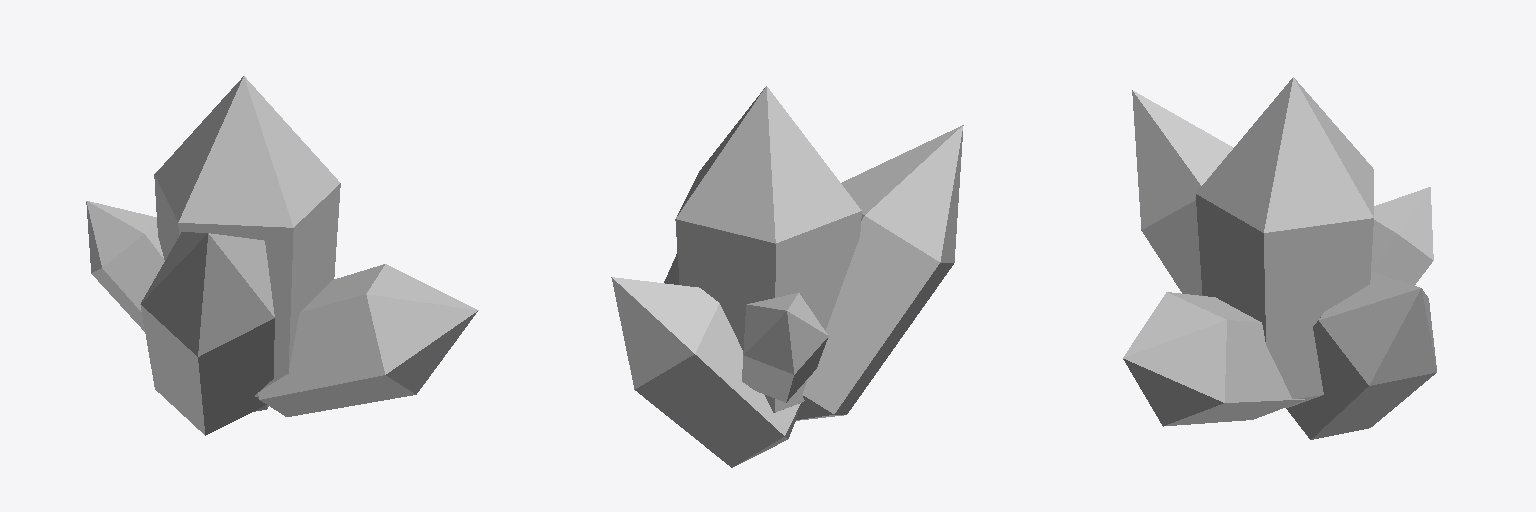
Rendered from crystal 3s.obj.
3 views of the same model, side by side, from view 1: azimuth 30°, elevation 25°; view 2: azimuth 150°, elevation 25°; view 3: azimuth 270°, elevation 25° (orthographic).
Visible parts, largest first — view 1: Cylinder.013; view 2: Cylinder.013; view 3: Cylinder.013.
Part boxes in pixels (bbox=[...]): Cylinder.013: bbox=[86, 76, 478, 435]; Cylinder.013: bbox=[611, 86, 963, 467]; Cylinder.013: bbox=[1123, 77, 1436, 439].
Bounding box in the file's own units: 4.62 × 5.42 × 4.37.